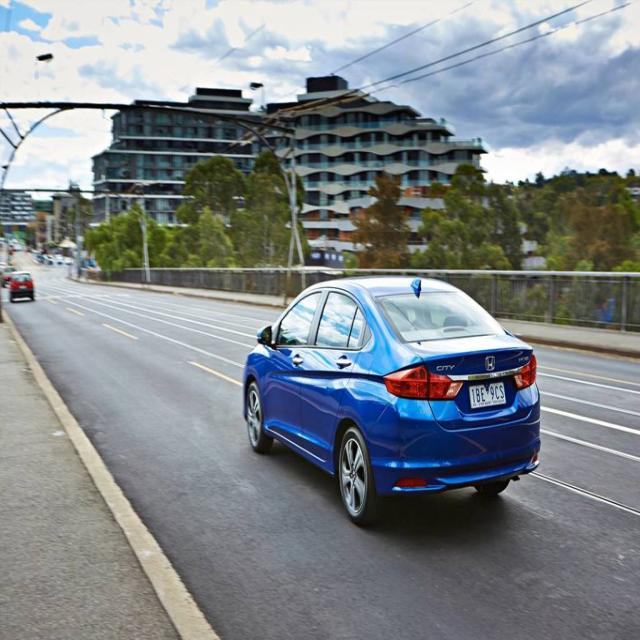car: (242, 275, 540, 524), (4, 269, 38, 300)
